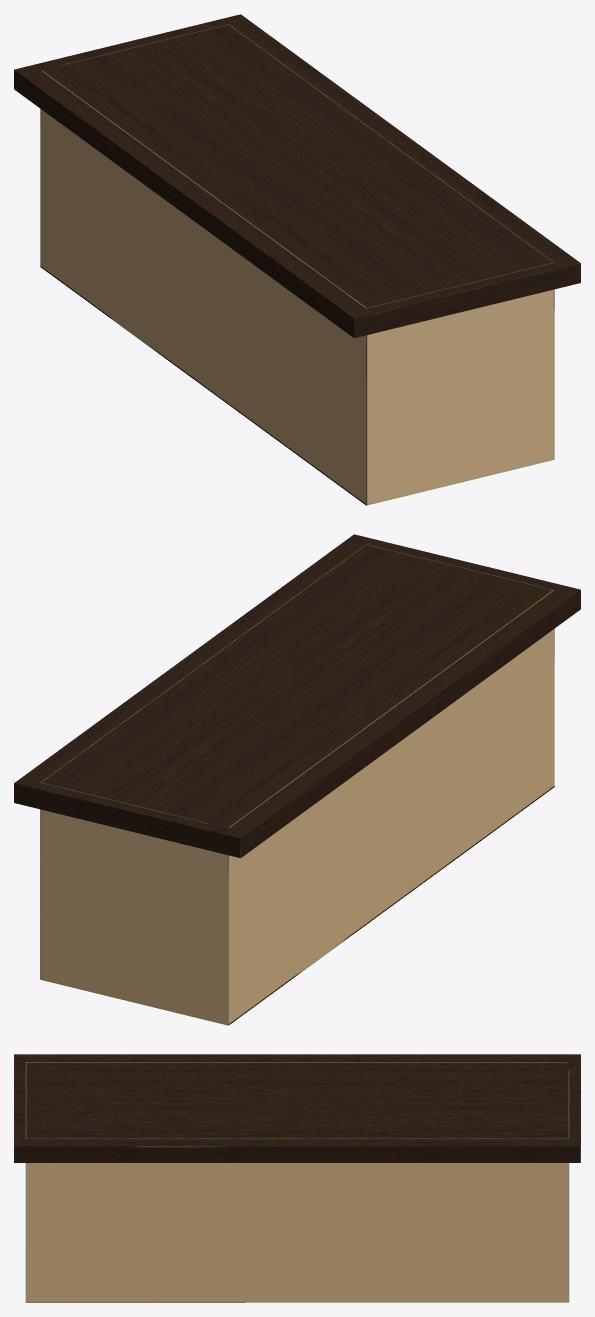
File: counter.glb
3 renders of one model, top to bottom at view 1: azimuth 30°, elevation 25°; view 2: azimuth 150°, elevation 25°; view 3: azimuth 270°, elevation 25°, orthographic. The views are drawn at different scales.
Parts seen in each view (by area): view 1: TopCounter, BaseCounter; view 2: TopCounter, BaseCounter; view 3: BaseCounter, TopCounter.
Part boxes in pixels (x1,y1,x2,y2): TopCounter: [14, 14, 580, 338]; BaseCounter: [40, 109, 554, 505]; TopCounter: [14, 534, 580, 858]; BaseCounter: [40, 629, 554, 1025]; BaseCounter: [25, 1163, 569, 1302]; TopCounter: [14, 1054, 580, 1162].
Bounding box in the file's own units: 2.41 × 2 × 6.26.
1 material, 1 textured.
